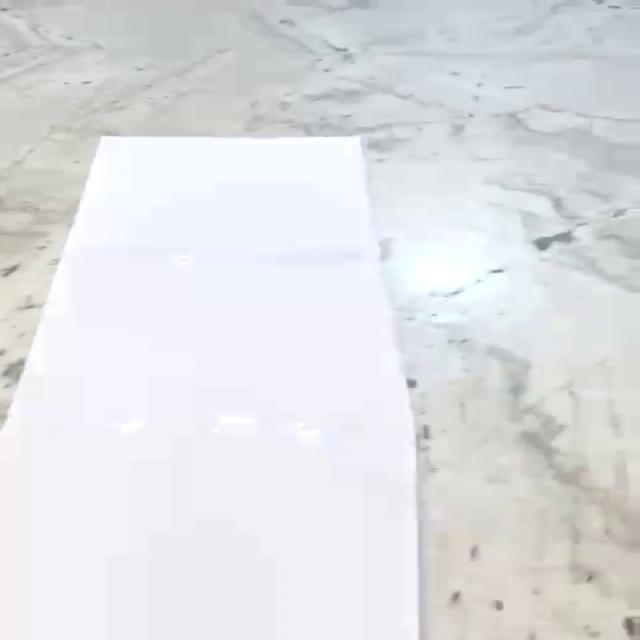road: (0, 136, 420, 640)
